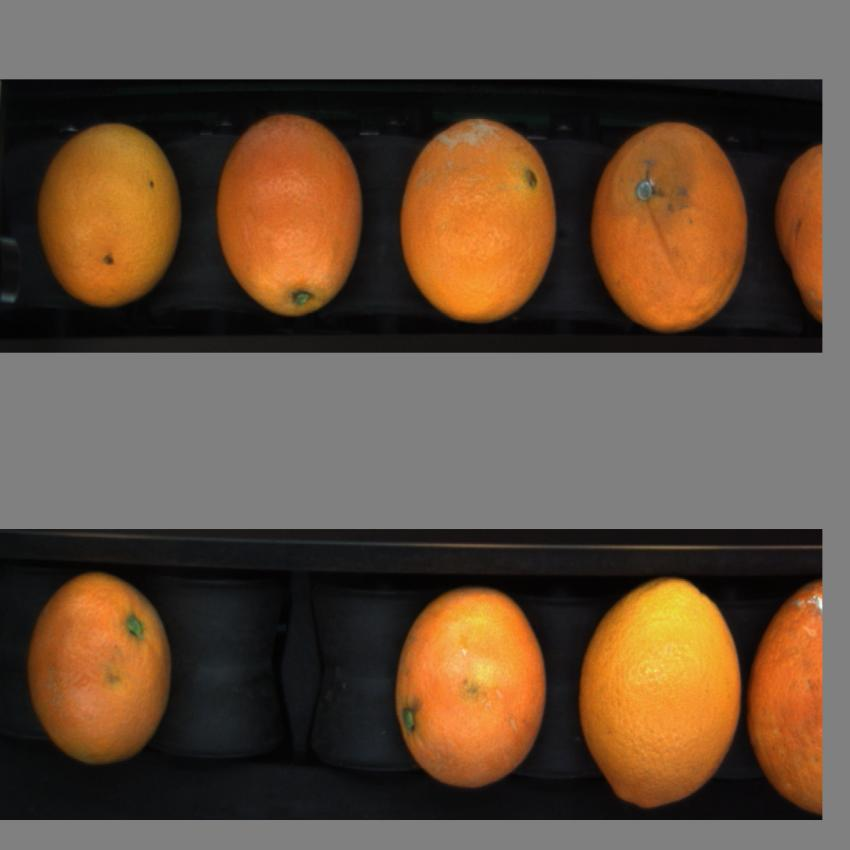Buen estado: (575, 573, 739, 813), (208, 110, 368, 330), (389, 579, 551, 792), (25, 564, 176, 776), (30, 115, 187, 315), (746, 574, 824, 826), (770, 132, 824, 332)
Mal estado: (584, 118, 756, 339), (395, 111, 562, 335)
